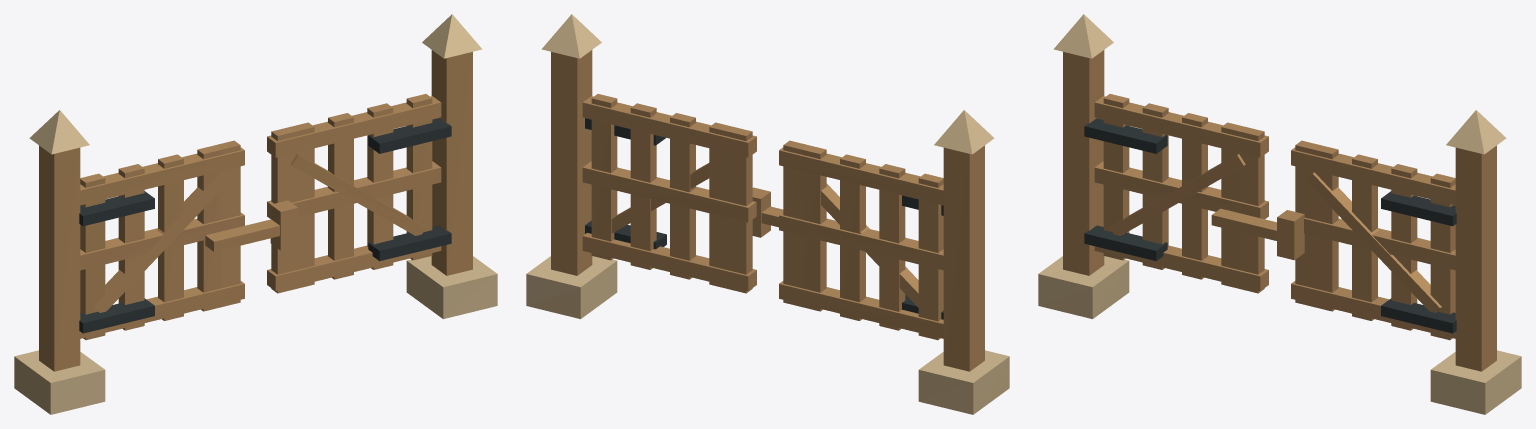
File: gates.source.glb
3 renders of one model, left to right at view 1: azimuth 30°, elevation 25°; view 2: azimuth 150°, elevation 25°; view 3: azimuth 330°, elevation 25°, orthographic.
Visible parts, largest first — view 1: gates-slim-timber-post--1.8-mesh, gates-slim-timber-post-1.8-mesh, gates-stone-foot--1.8-mesh, gates-stone-foot-1.8-mesh, gates-right-horizontal-rail-1.72-mesh, gates-left-horizontal-rail-1.72-mesh, gates-left-vertical-slat-0.88-mesh, gates-right-vertical-slat-0.88-mesh, gates-left-diagonal-brace-mesh, gates-right-horizontal-rail-1.15-mesh, gates-left-horizontal-rail-1.15-mesh, gates-right-horizontal-rail-0.55-mesh (+18 smaller); view 2: gates-slim-timber-post--1.8-mesh, gates-slim-timber-post-1.8-mesh, gates-stone-foot--1.8-mesh, gates-stone-foot-1.8-mesh, gates-right-horizontal-rail-1.72-mesh, gates-right-horizontal-rail-1.15-mesh, gates-right-horizontal-rail-0.55-mesh, gates-left-horizontal-rail-1.72-mesh, gates-left-horizontal-rail-1.15-mesh, gates-left-horizontal-rail-0.55-mesh, gates-right-vertical-slat-0.52-mesh, gates-left-vertical-slat-0.88-mesh (+14 smaller); view 3: gates-slim-timber-post-1.8-mesh, gates-slim-timber-post--1.8-mesh, gates-stone-foot-1.8-mesh, gates-stone-foot--1.8-mesh, gates-left-horizontal-rail-1.72-mesh, gates-right-horizontal-rail-1.72-mesh, gates-left-horizontal-rail-1.15-mesh, gates-right-vertical-slat-0.88-mesh, gates-left-vertical-slat-0.88-mesh, gates-right-diagonal-brace-mesh, gates-right-horizontal-rail-1.15-mesh, gates-left-vertical-slat-1.4-mesh (+18 smaller).
Part boxes in pixels (x1,y1,x2,y2): gates-slim-timber-post--1.8-mesh: (39,145,80,371); gates-slim-timber-post-1.8-mesh: (431,50,472,275); gates-stone-foot--1.8-mesh: (14,350,105,414); gates-stone-foot-1.8-mesh: (406,256,497,319); gates-right-horizontal-rail-1.72-mesh: (267,96,441,157); gates-left-horizontal-rail-1.72-mesh: (80,147,244,205); gates-left-vertical-slat-0.88-mesh: (158,154,183,320); gates-right-vertical-slat-0.88-mesh: (328,113,353,279); gates-left-diagonal-brace-mesh: (94,172,229,312); gates-right-horizontal-rail-1.15-mesh: (267,161,441,218); gates-left-horizontal-rail-1.15-mesh: (80,212,244,270); gates-right-horizontal-rail-0.55-mesh: (267,245,441,290); gates-slim-timber-post--1.8-mesh: (943,145,984,371); gates-slim-timber-post-1.8-mesh: (551,50,592,275); gates-stone-foot--1.8-mesh: (918,350,1009,414); gates-stone-foot-1.8-mesh: (526,256,617,319); gates-right-horizontal-rail-1.72-mesh: (582,96,756,157); gates-right-horizontal-rail-1.15-mesh: (582,161,756,222); gates-right-horizontal-rail-0.55-mesh: (582,233,756,290); gates-left-horizontal-rail-1.72-mesh: (779,147,943,205); gates-left-horizontal-rail-1.15-mesh: (779,212,943,270); gates-left-horizontal-rail-0.55-mesh: (779,281,943,338); gates-right-vertical-slat-0.52-mesh: (630,103,656,269); gates-left-vertical-slat-0.88-mesh: (840,154,865,320); gates-slim-timber-post-1.8-mesh: (1455,145,1496,371); gates-slim-timber-post--1.8-mesh: (1063,50,1104,275); gates-stone-foot-1.8-mesh: (1430,350,1521,414); gates-stone-foot--1.8-mesh: (1038,256,1129,319); gates-left-horizontal-rail-1.72-mesh: (1094,96,1268,157); gates-right-horizontal-rail-1.72-mesh: (1291,147,1455,205); gates-left-horizontal-rail-1.15-mesh: (1094,161,1268,219); gates-right-vertical-slat-0.88-mesh: (1352,154,1377,320); gates-left-vertical-slat-0.88-mesh: (1182,113,1207,279); gates-right-diagonal-brace-mesh: (1306,172,1441,312); gates-right-horizontal-rail-1.15-mesh: (1304,217,1455,270); gates-left-vertical-slat-1.4-mesh: (1238,126,1264,293).
Bounding box in the file's own units: 4.1 × 2.5 × 0.58.
